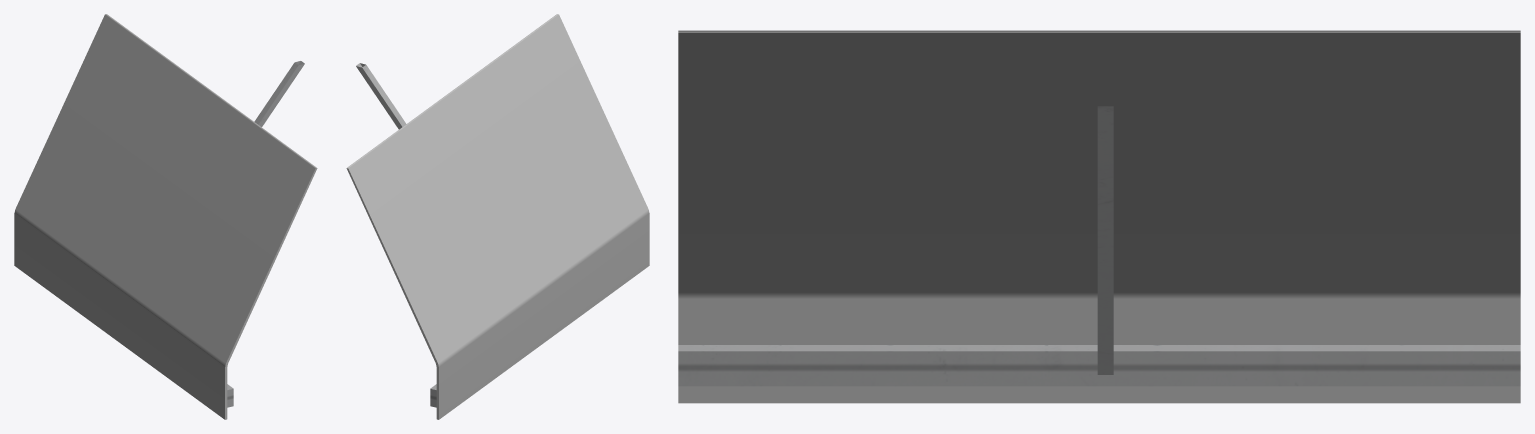
Rendered from MB_Canopy_A_2m.fbx.
3 views of the same model, side by side, from view 1: azimuth 30°, elevation 25°; view 2: azimuth 150°, elevation 25°; view 3: azimuth 270°, elevation 25° (orthographic). The views are drawn at different scales.
Visible parts, largest first — view 1: MB_Canopy_A_2m; view 2: MB_Canopy_A_2m; view 3: MB_Canopy_A_2m.
Boxes of the visible parts, x1,y1,x2,y2 form: MB_Canopy_A_2m: (14, 14, 317, 419); MB_Canopy_A_2m: (346, 14, 649, 419); MB_Canopy_A_2m: (678, 30, 1520, 403).
Bounding box in the file's own units: 101 × 123 × 200.
